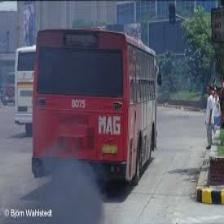smoke: (54, 160, 98, 222)
